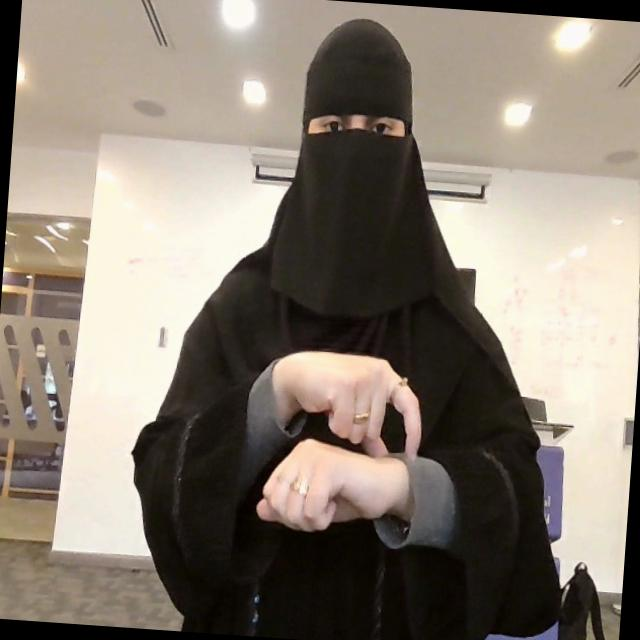appointment: (253, 342, 441, 542)
